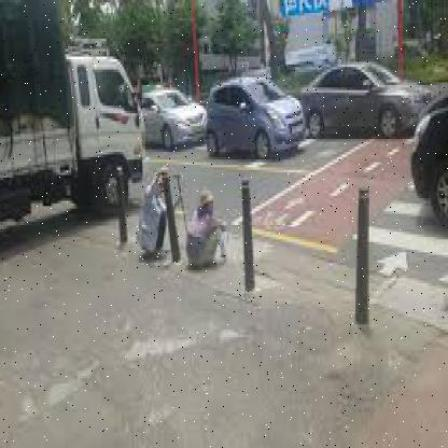silver: (136, 167, 190, 261), (186, 190, 229, 272)
